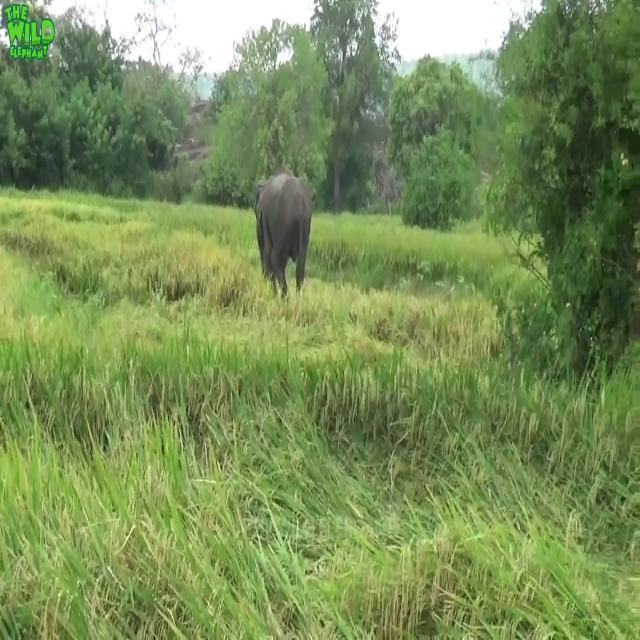Elephant: (254, 171, 313, 299)
